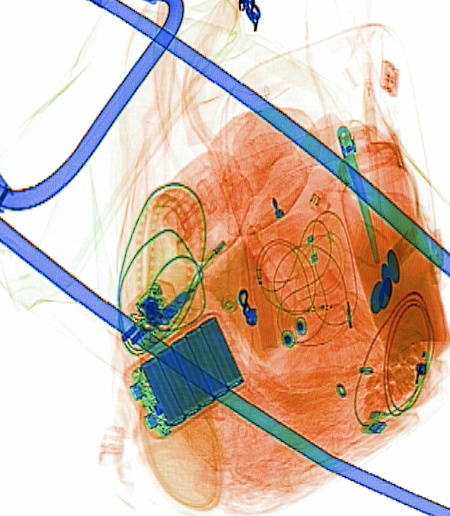powerbank: (121, 308, 250, 441)
